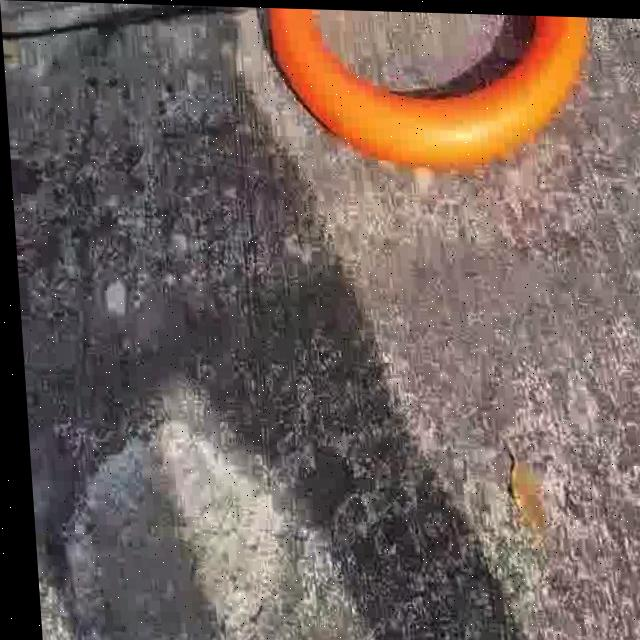note: (259, 6, 604, 177)
